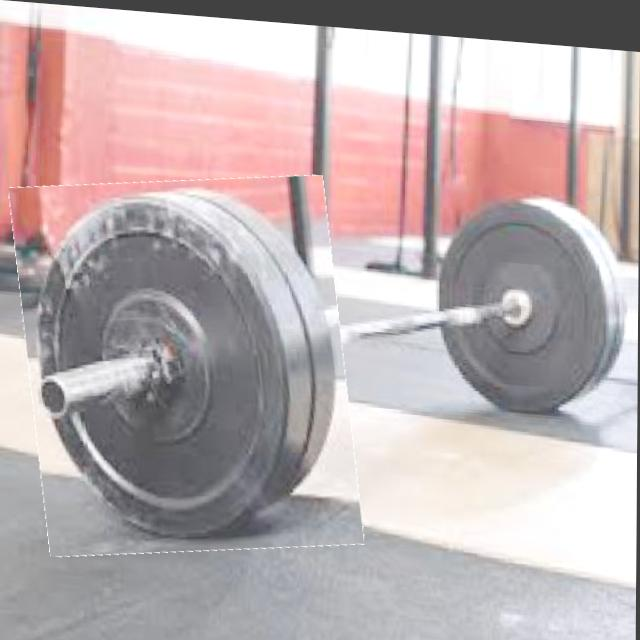barbell: (18, 161, 357, 568)
